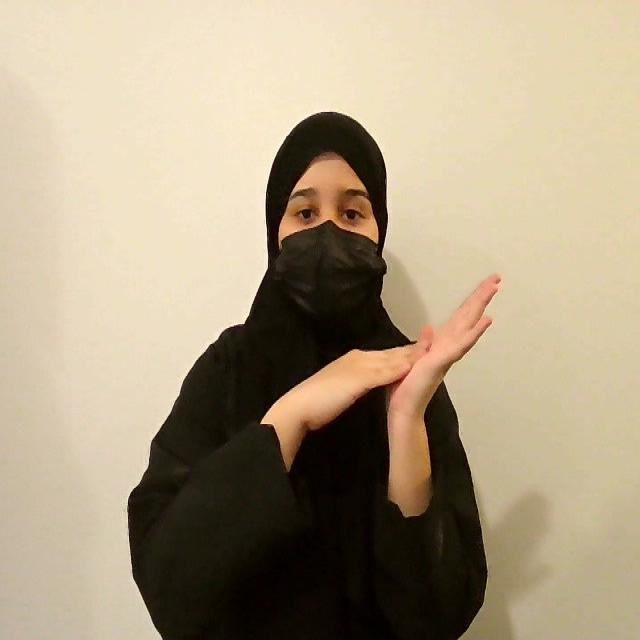complaint: (284, 269, 503, 441)
